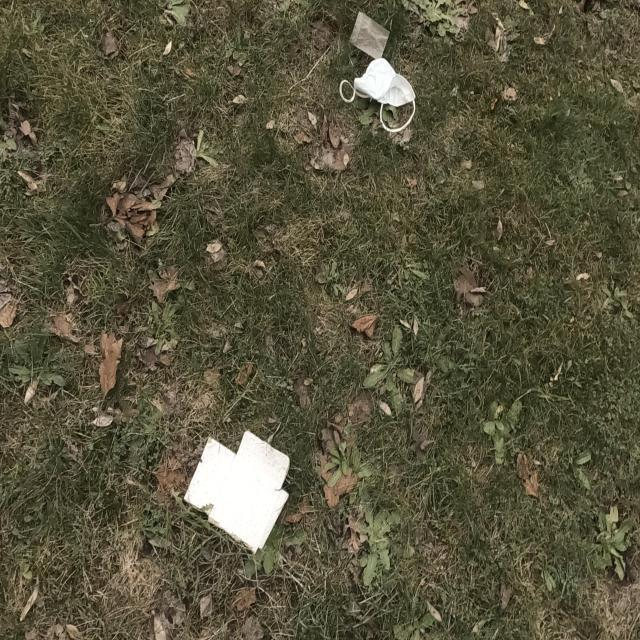Mask: (340, 56, 418, 134)
Paper: (183, 435, 290, 551), (208, 429, 290, 556)
